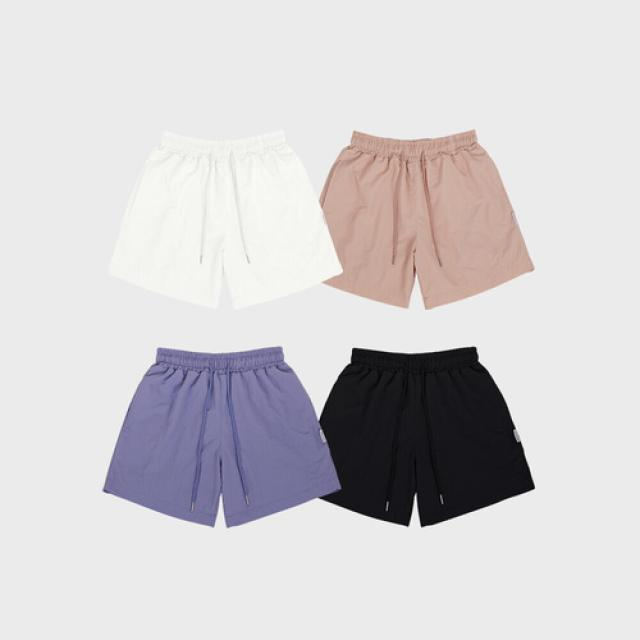dress: (98, 345, 346, 524), (297, 134, 534, 306), (308, 346, 532, 522), (111, 132, 331, 309)
